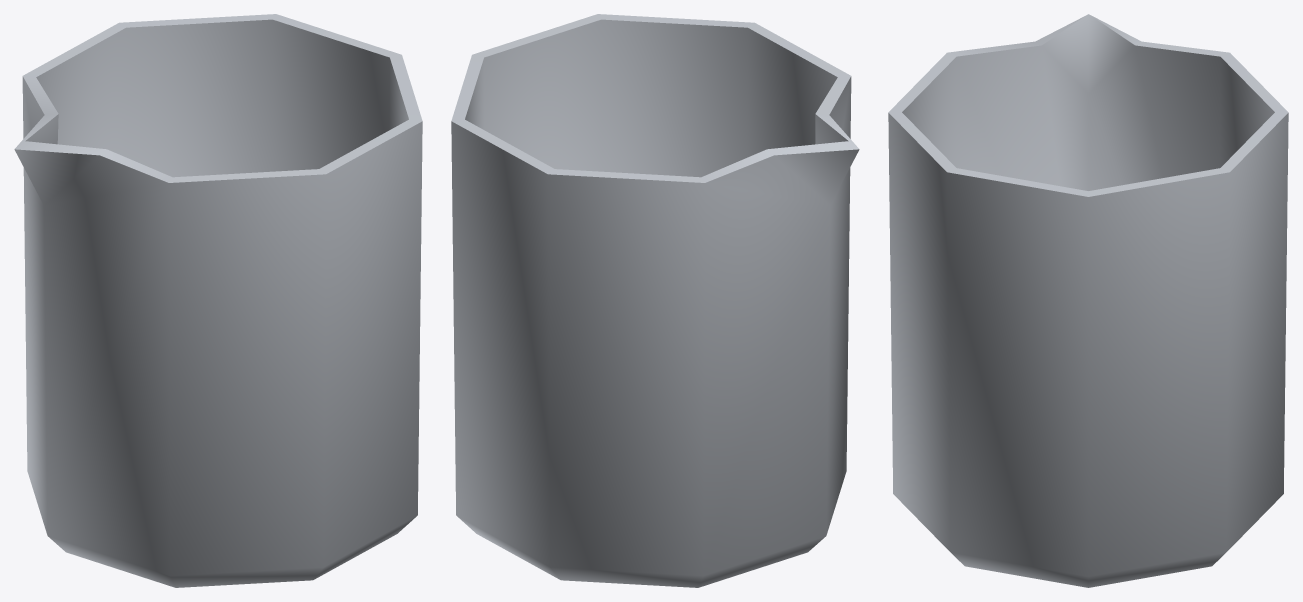
The model's file is bottle_glassware_beaker_medium.glb.
3 renders of one model, left to right at view 1: azimuth 30°, elevation 25°; view 2: azimuth 150°, elevation 25°; view 3: azimuth 270°, elevation 25°, orthographic. The views are drawn at different scales.
Visible parts, largest first — view 1: bottle_glassware_beaker_medium; view 2: bottle_glassware_beaker_medium; view 3: bottle_glassware_beaker_medium.
Part boxes in pixels (x1=…): bottle_glassware_beaker_medium: x1=14, y1=14, x2=422, y2=587; bottle_glassware_beaker_medium: x1=451, y1=14, x2=859, y2=587; bottle_glassware_beaker_medium: x1=888, y1=14, x2=1288, y2=587.
Size of the model in its own units: 12.79 by 13.28 by 11.83.
1 material, 1 textured.
